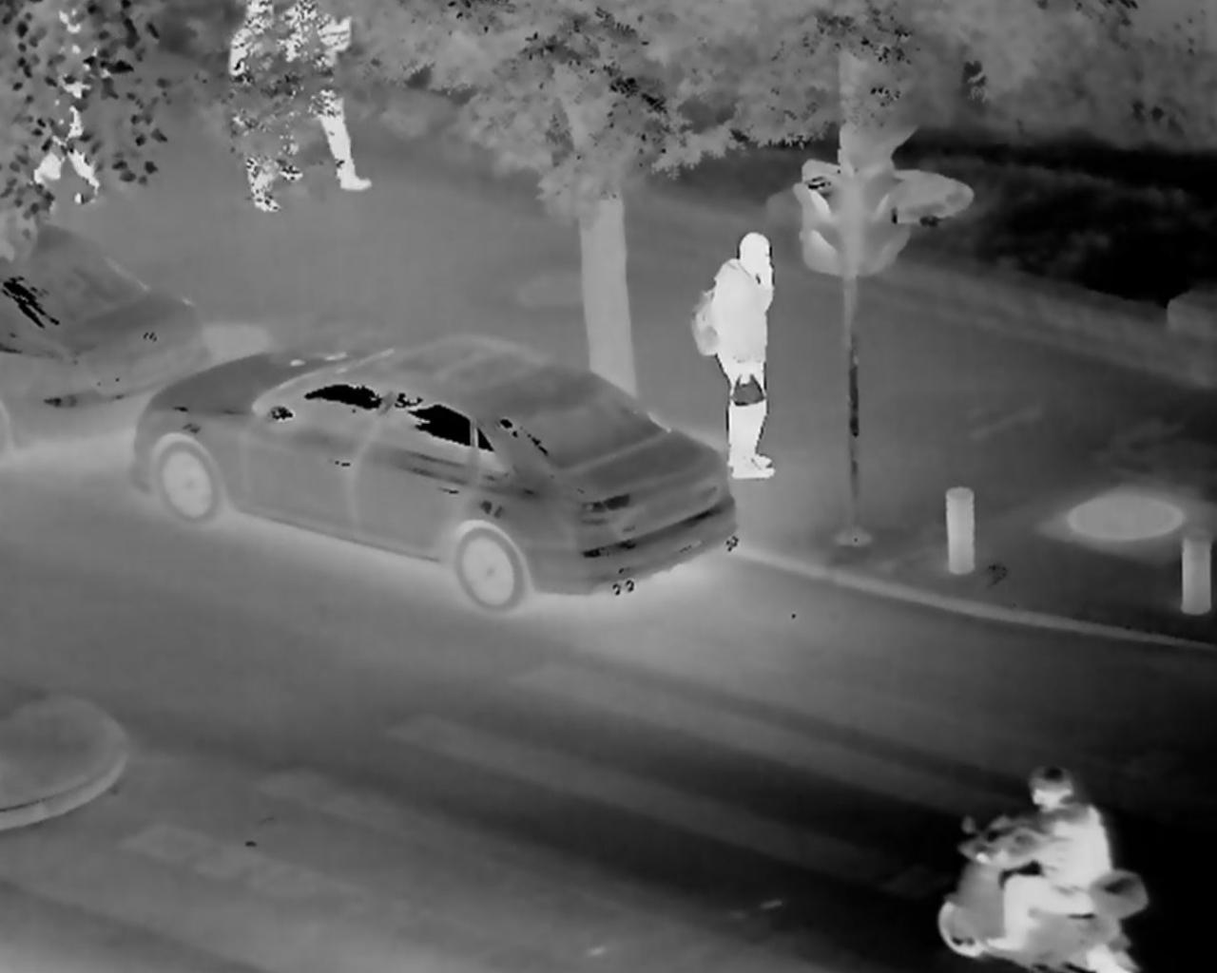person: (975, 762, 1121, 958), (695, 231, 781, 480), (25, 2, 102, 201), (228, 3, 281, 205)
